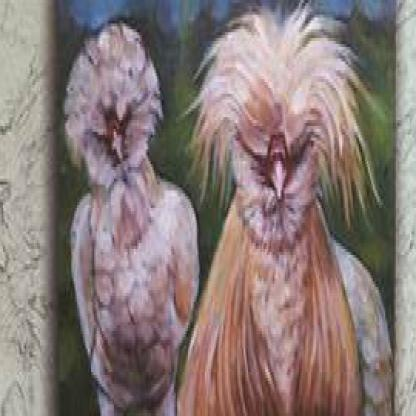chicken: (191, 3, 381, 413), (59, 9, 188, 413)
